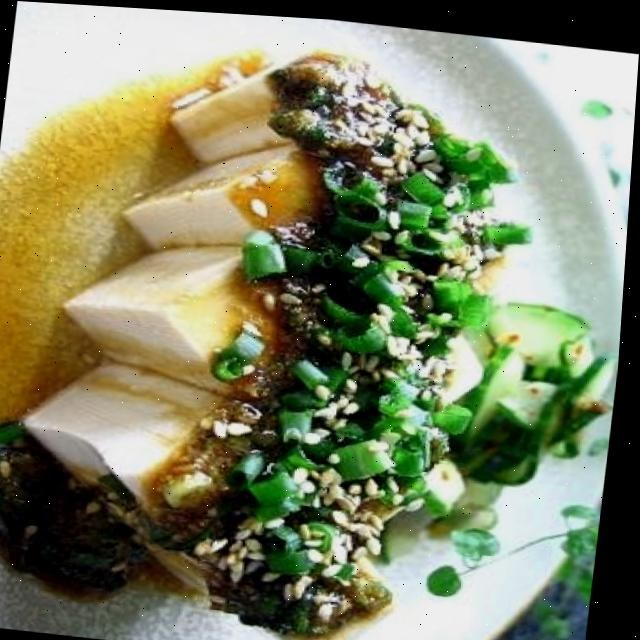豆腐料理: (0, 14, 639, 640)
